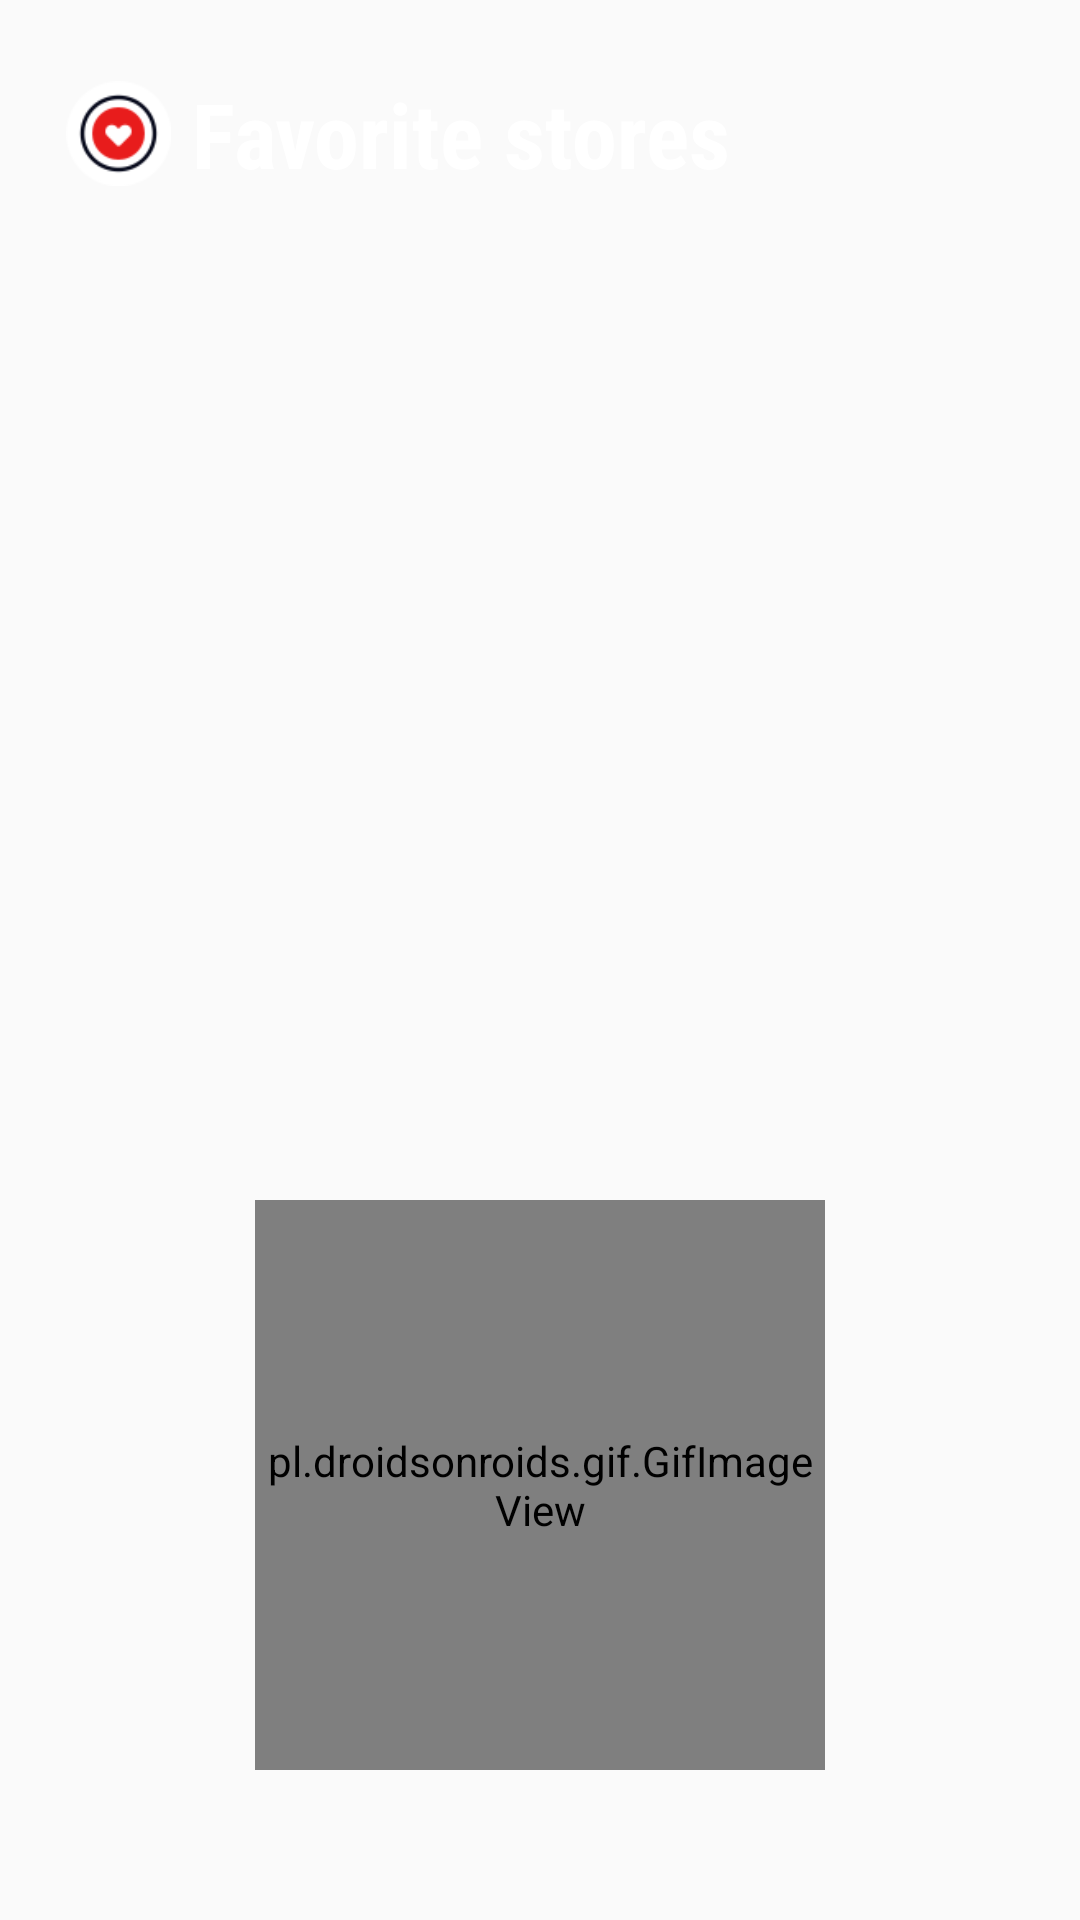

Icons on this 1080×1920 Android screen, each with its box as (x1, y1, x2, y2):
heart: (79, 94, 157, 173)
